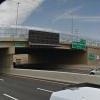Bridge: (5, 20, 91, 63)
